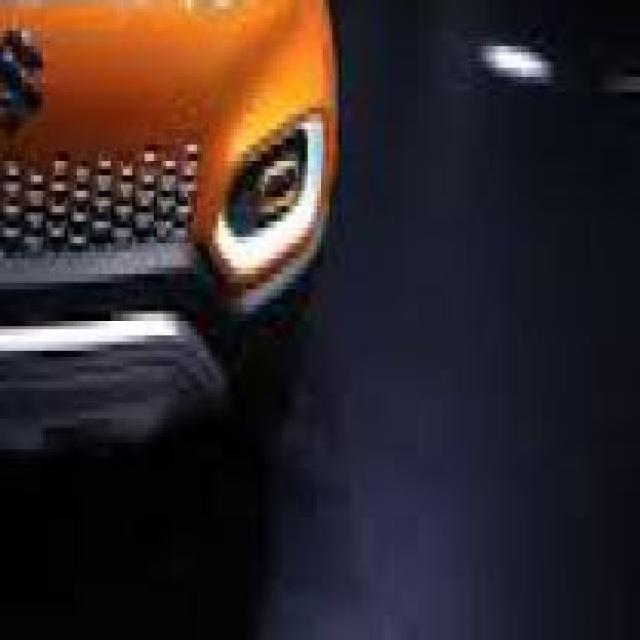car: (0, 0, 372, 578)
